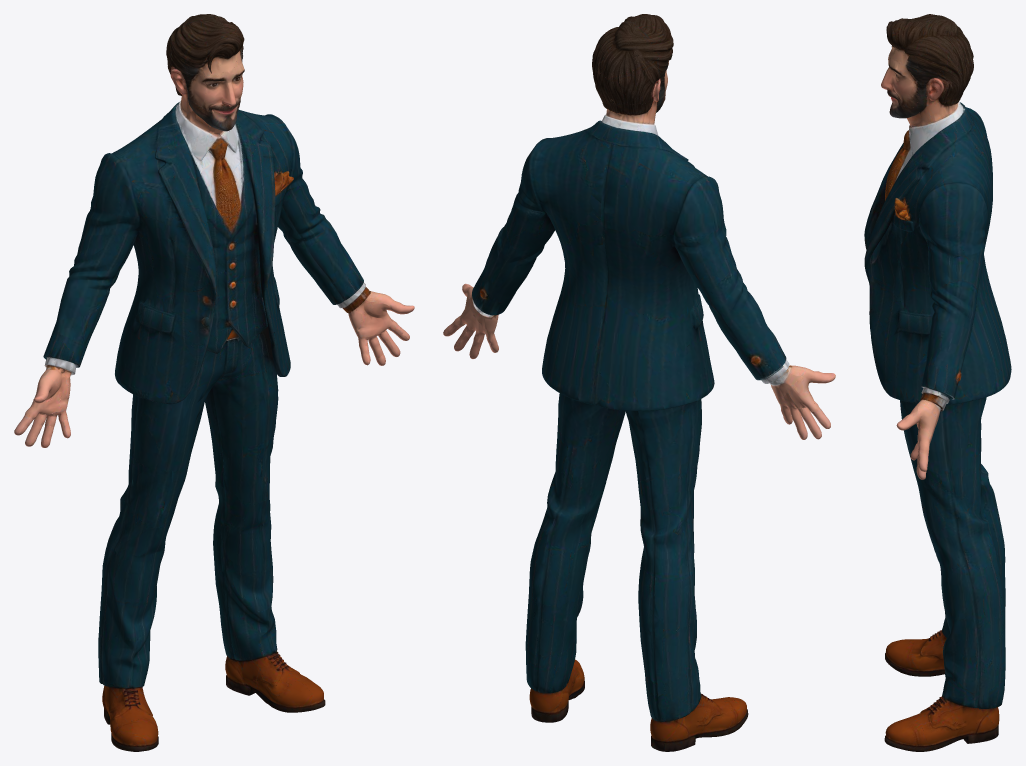
Rendered from gerente-oficina.glb.
3 renders of one model, left to right at view 1: azimuth 30°, elevation 25°; view 2: azimuth 150°, elevation 25°; view 3: azimuth 270°, elevation 25°, orthographic. The views are drawn at different scales.
Visible parts, largest first — view 1: businessman; view 2: businessman; view 3: businessman.
Part boxes in pixels (bbox=[...]): businessman: bbox=[14, 14, 414, 751]; businessman: bbox=[443, 14, 835, 751]; businessman: bbox=[864, 14, 1011, 751].
Bounding box in the file's own units: 1.06 × 1.8 × 0.3492.
1 material, 1 textured.
